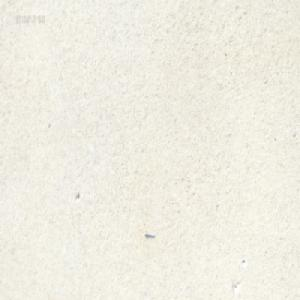Nail: (144, 231, 155, 239)
